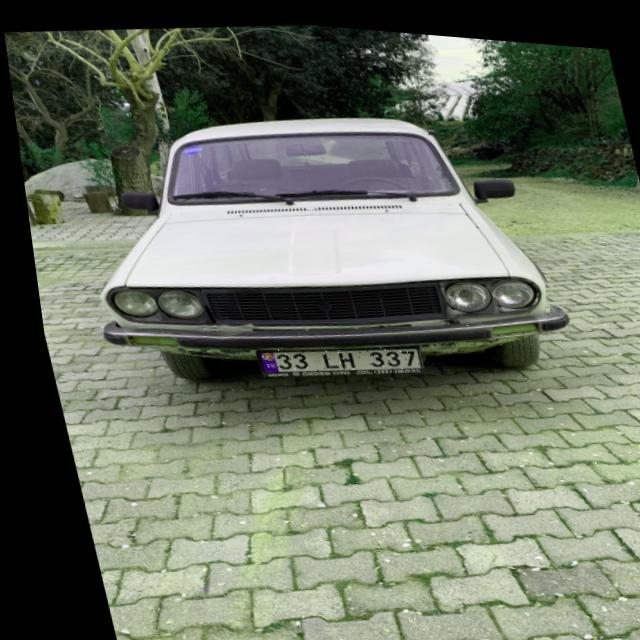license_plate: (244, 329, 415, 379)
